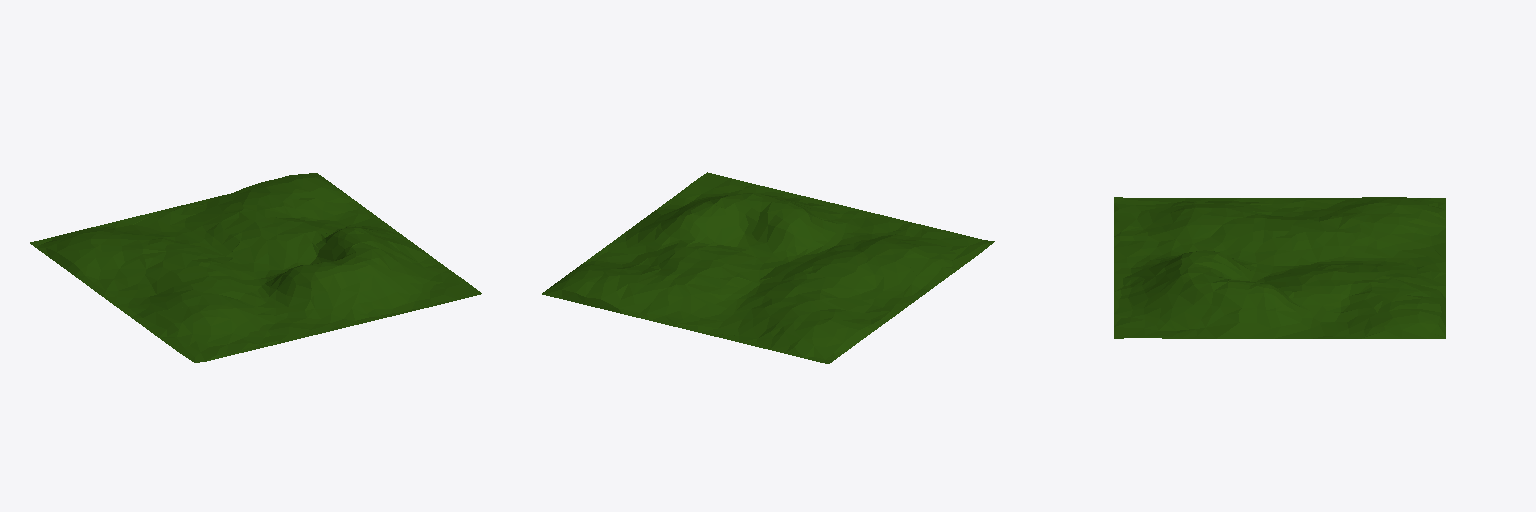
File: terrain2.obj
The picture shows the model from 3 angles: view 1: azimuth 30°, elevation 25°; view 2: azimuth 150°, elevation 25°; view 3: azimuth 270°, elevation 25°; orthographic projection.
Parts seen in each view (by area): view 1: Terrain_2_Plane.010; view 2: Terrain_2_Plane.010; view 3: Terrain_2_Plane.010.
Boxes of the visible parts, x1,y1,x2,y2 form: Terrain_2_Plane.010: [30, 173, 481, 362]; Terrain_2_Plane.010: [542, 172, 994, 363]; Terrain_2_Plane.010: [1114, 197, 1445, 338].
Bounding box in the file's own units: 20.01 × 1.76 × 20.